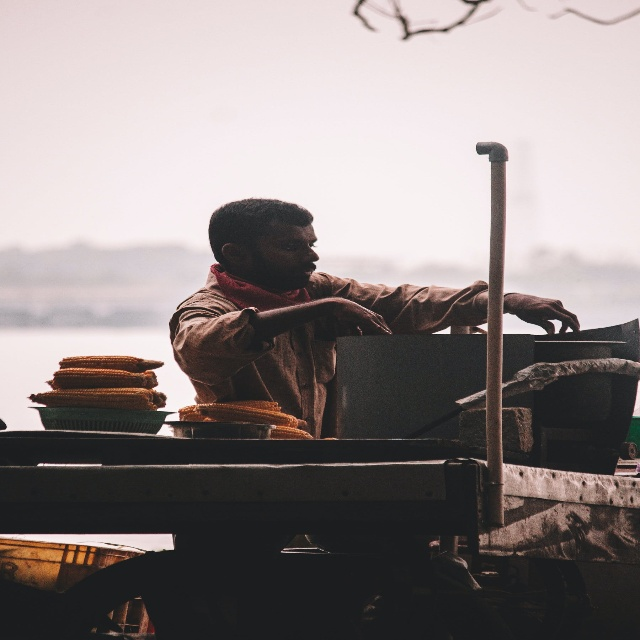Sin_guantes: (508, 291, 581, 336), (329, 296, 392, 337)
